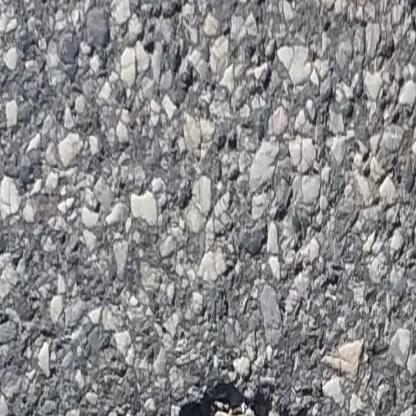Cracks: (163, 376, 313, 416)
